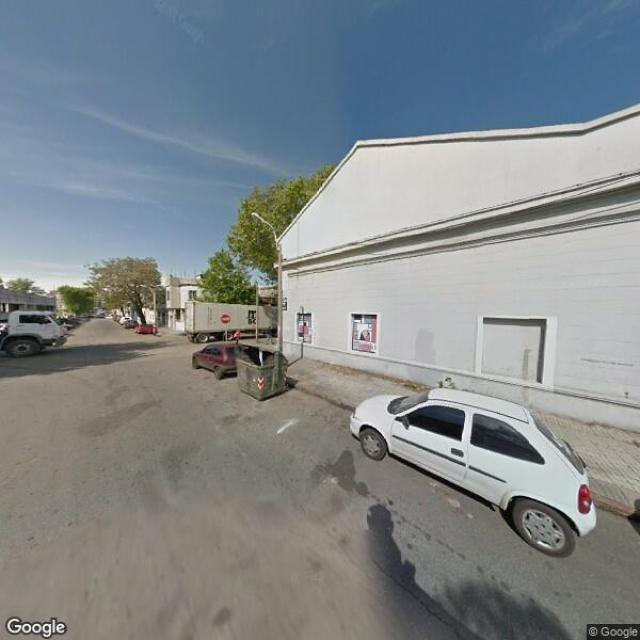garbage container: (229, 344, 299, 406)
